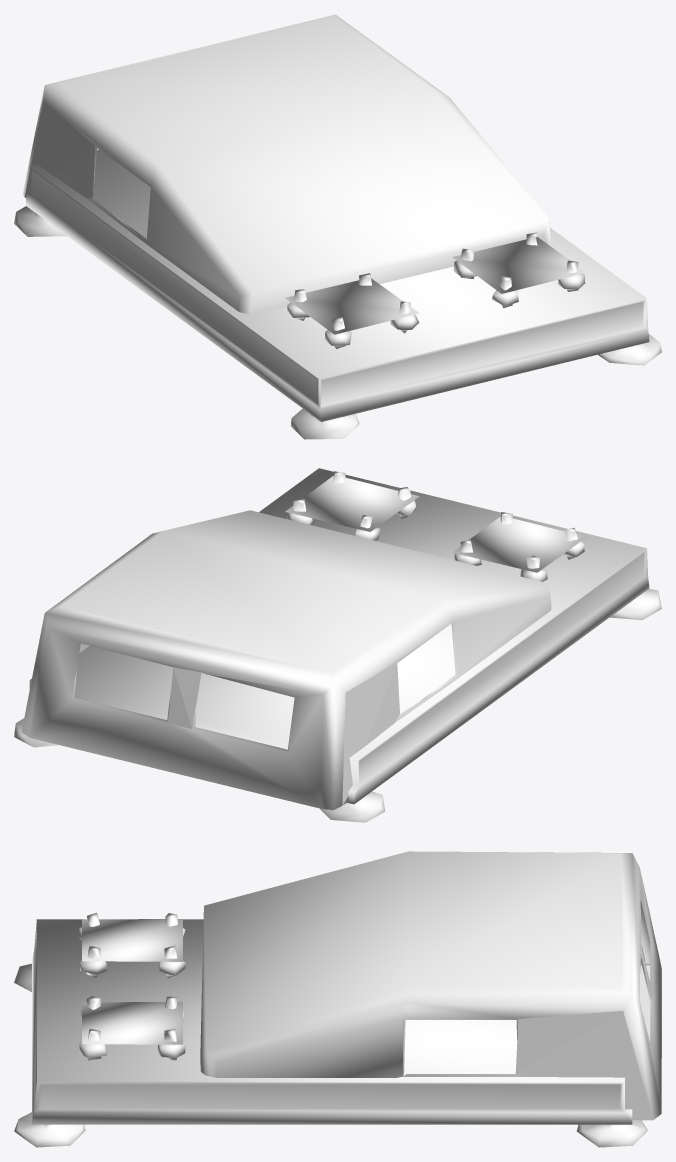
3 renders of one model, top to bottom at view 1: azimuth 30°, elevation 25°; view 2: azimuth 150°, elevation 25°; view 3: azimuth 270°, elevation 25°, orthographic.
Size of the model in its own units: 1.08 by 0.3896 by 1.66.
Materials: 1 (1 with a texture image).
